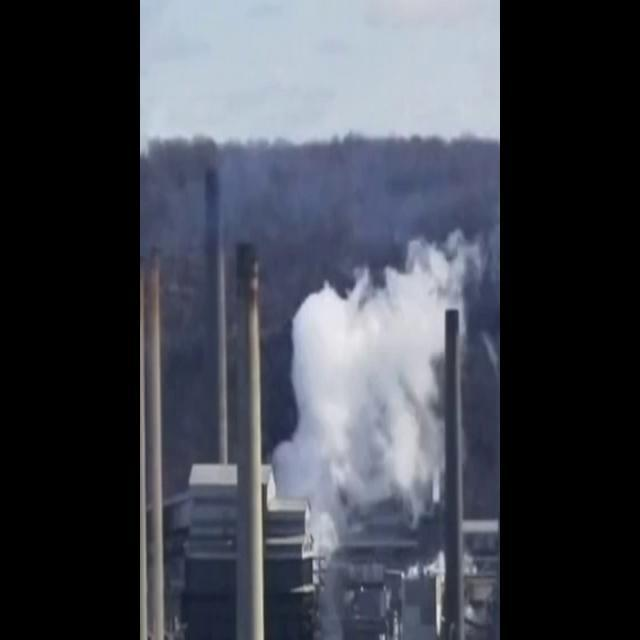Smoke: (272, 221, 480, 554)
